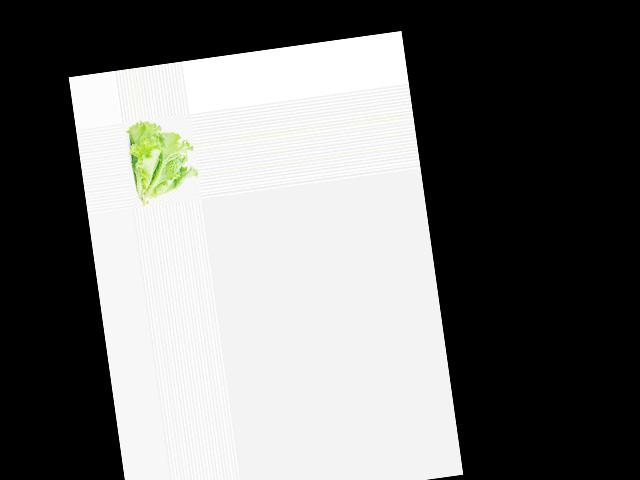lettuce: (127, 114, 200, 207)
